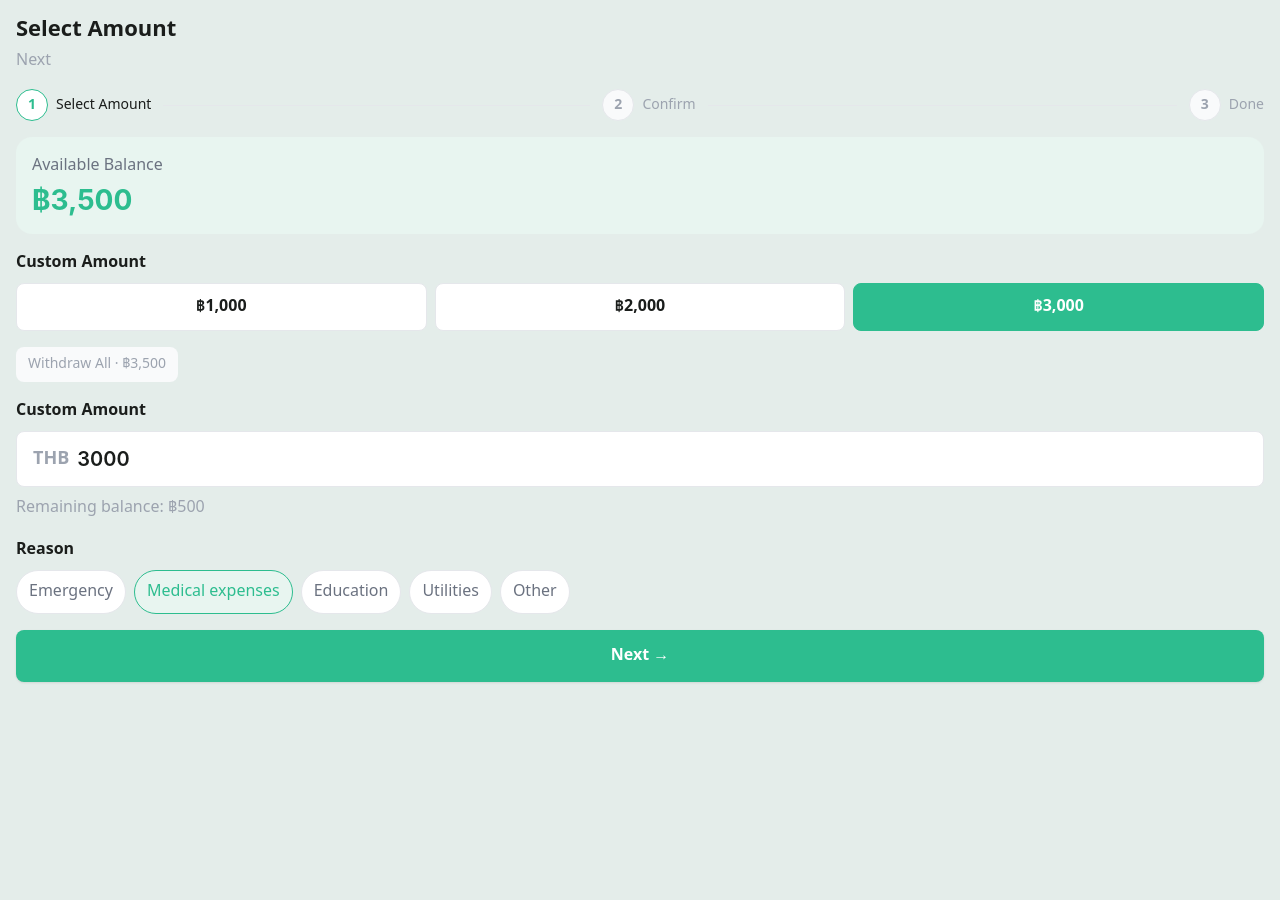
Test: EmployeeRequestPage — step 1 › selecting a quick amount updates the input
Step 1. Click the button "฿1,000" → (221, 307), box top-left (16, 283), bottom-right (427, 331)
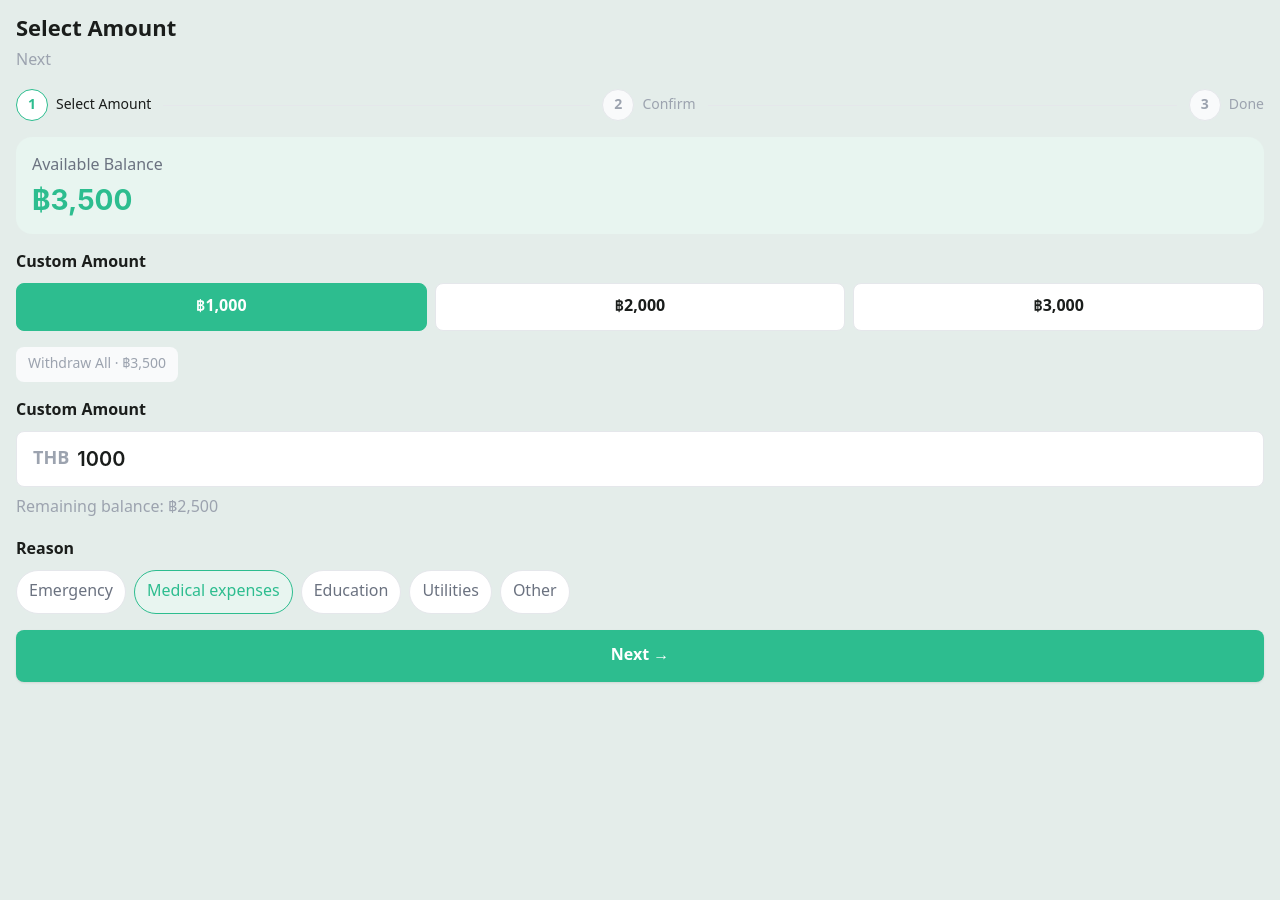
Check: the number field holds "1000", box top-left (77, 443), bottom-right (1247, 475)
